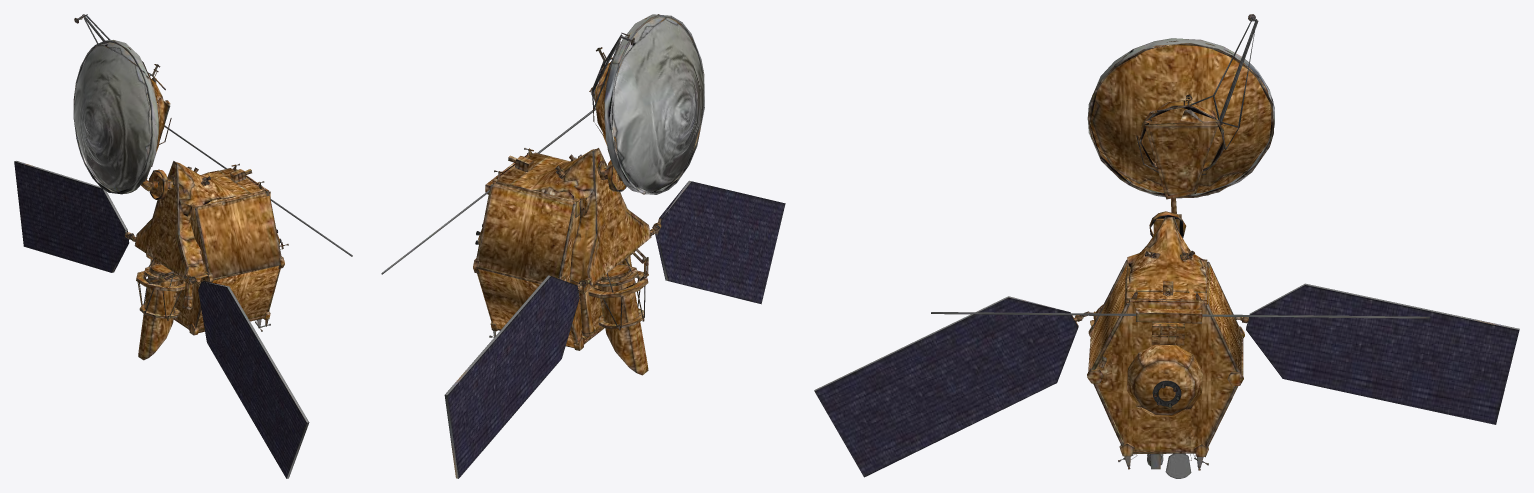
The model's file is mro.glb.
3 renders of one model, left to right at view 1: azimuth 30°, elevation 25°; view 2: azimuth 150°, elevation 25°; view 3: azimuth 270°, elevation 25°, orthographic. The views are drawn at different scales.
Parts seen in each view (by area): view 1: mro_proxy7, mro_proxy5, mro_proxy3, mro_proxy6, mro_proxy2; view 2: mro_proxy7, mro_proxy5, mro_proxy3, mro_proxy6, mro_proxy2; view 3: mro_proxy7, mro_proxy6, mro_proxy5.
Part boxes in pixels (x1,y1,x2,y2): mro_proxy7: [14, 14, 352, 478]; mro_proxy5: [134, 161, 213, 335]; mro_proxy3: [129, 173, 193, 360]; mro_proxy6: [230, 163, 284, 328]; mro_proxy2: [137, 259, 181, 320]; mro_proxy7: [381, 14, 785, 478]; mro_proxy5: [477, 148, 660, 350]; mro_proxy3: [581, 160, 658, 375]; mro_proxy6: [473, 148, 533, 337]; mro_proxy2: [602, 249, 648, 330]; mro_proxy7: [814, 14, 1519, 477]; mro_proxy6: [1087, 281, 1243, 470]; mro_proxy5: [1082, 217, 1244, 478].
Size of the model in its own units: 32.77 by 61 by 89.74.
Materials: 1 (1 with a texture image).
